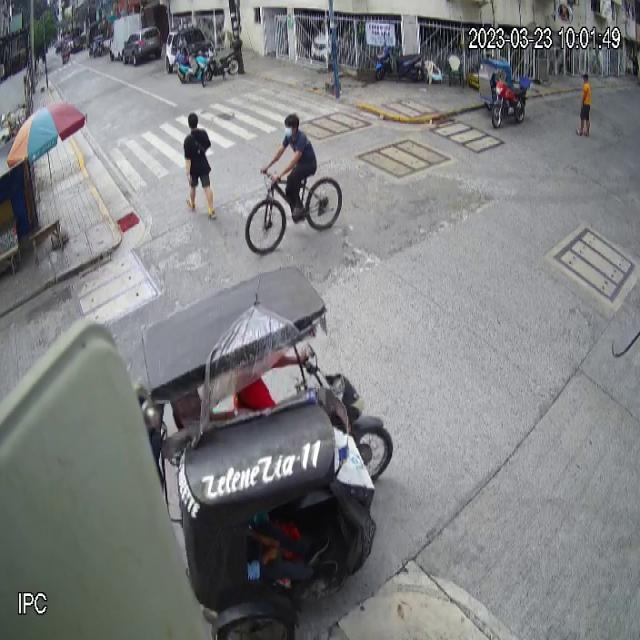Tricycle: (139, 265, 392, 640), (478, 56, 532, 129)
